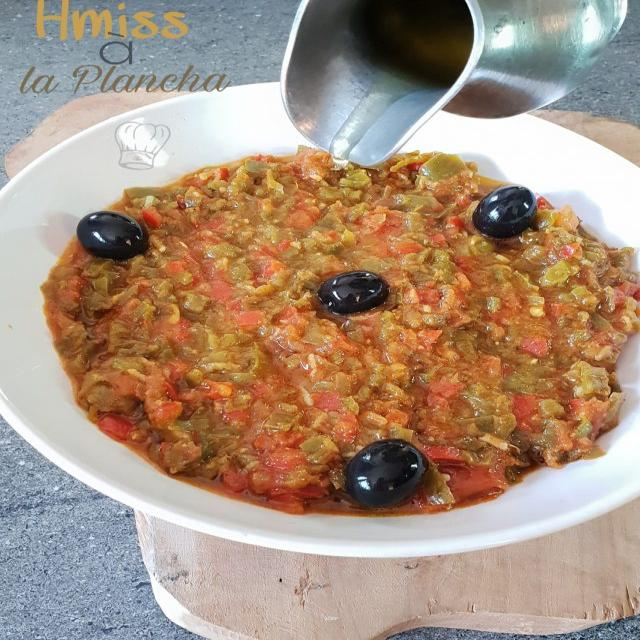Salade mechweya: (37, 110, 640, 528)
